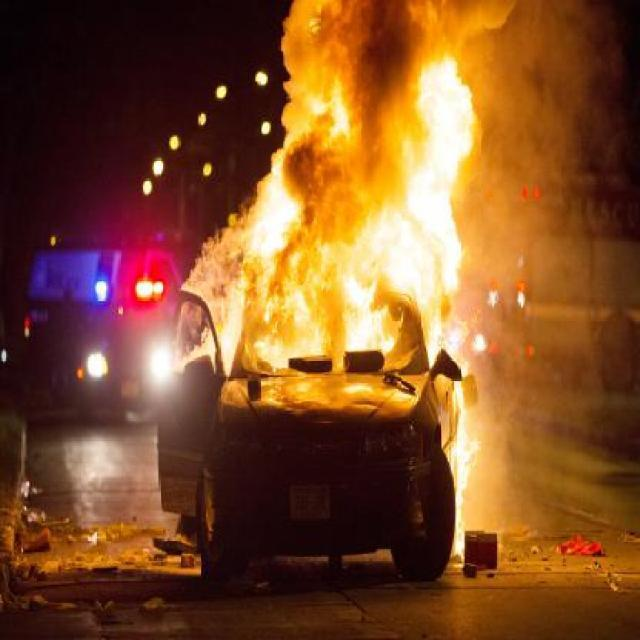Fire: (184, 0, 476, 360), (452, 384, 481, 536)
